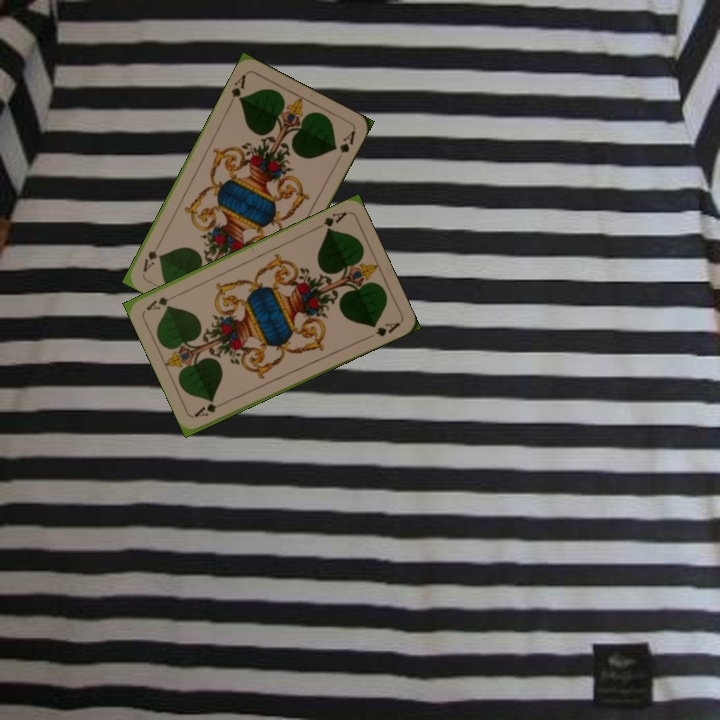GA: (312, 207, 349, 233), (225, 70, 249, 108), (191, 397, 230, 419)
